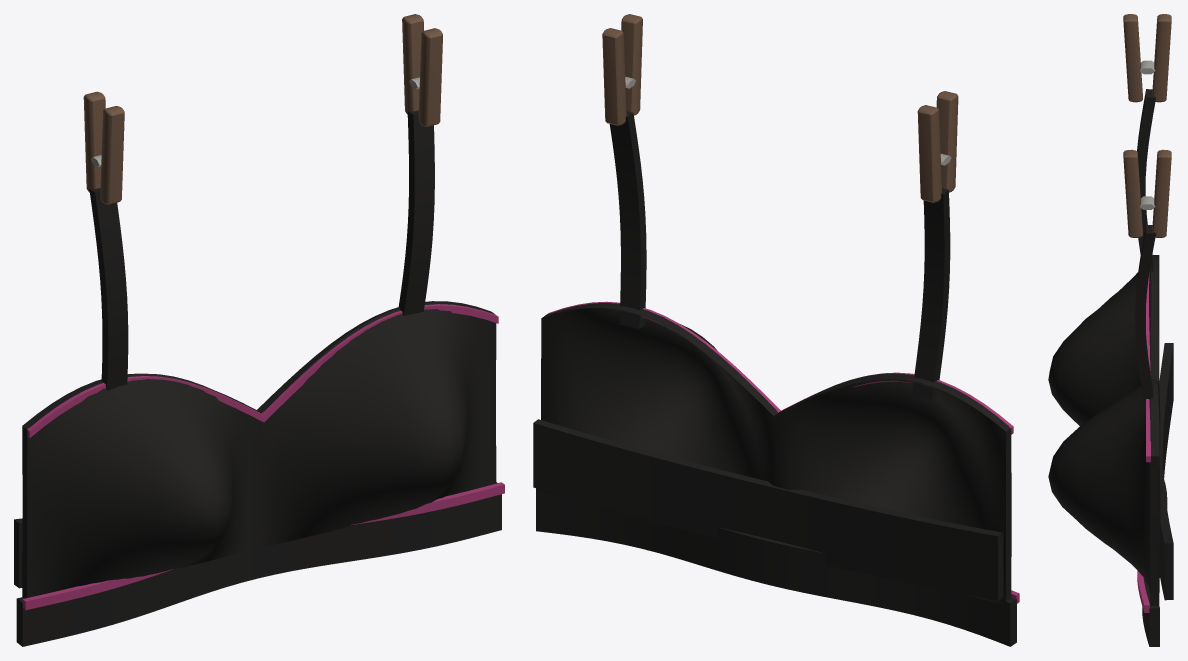
Rendered from bra-line-vibe-0ac5eab63210.glb.
3 renders of one model, left to right at view 1: azimuth 30°, elevation 25°; view 2: azimuth 150°, elevation 25°; view 3: azimuth 270°, elevation 25°, orthographic. The views are drawn at different scales.
Visible parts, largest first — view 1: rubber, wood, accent-magenta; view 2: rubber, wood, accent-magenta; view 3: rubber, wood, accent-magenta, brushed.
Part boxes in pixels (x1,y1,x2,y2): rubber: [14, 110, 501, 646]; wood: [83, 14, 442, 204]; accent-magenta: [22, 304, 504, 610]; rubber: [533, 111, 1016, 646]; wood: [602, 14, 958, 202]; accent-magenta: [546, 301, 1019, 603]; rubber: [1048, 89, 1173, 646]; wood: [1123, 14, 1171, 237]; accent-magenta: [1137, 272, 1150, 612]; brushed: [1139, 60, 1155, 209].
Bounding box in the file's own units: 0.286 × 0.3 × 0.074.
